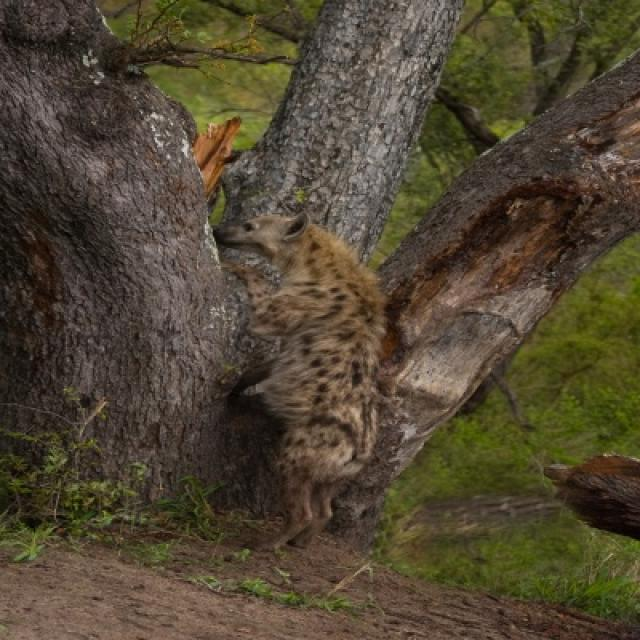hyena: (213, 214, 389, 547)
